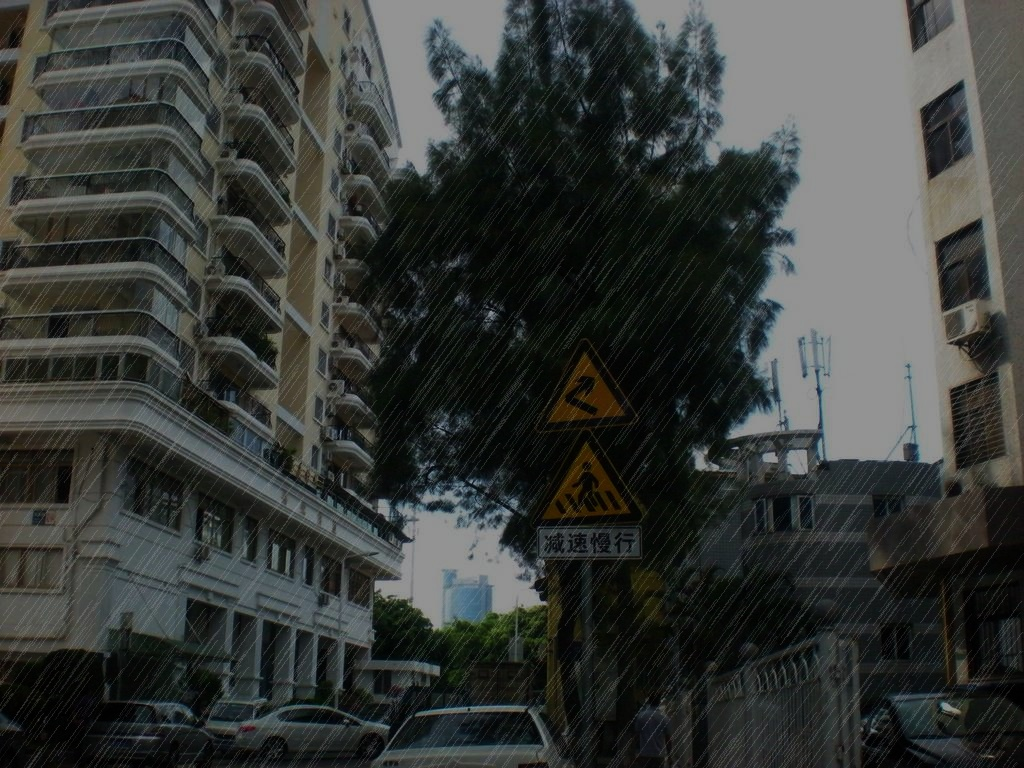Warning Signs: (528, 430, 648, 528), (533, 335, 641, 435)
